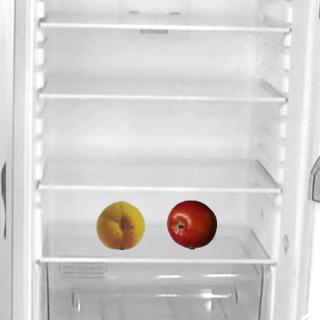Apple Braeburn: (166, 199, 216, 249)
Peach 2: (95, 199, 145, 249)
